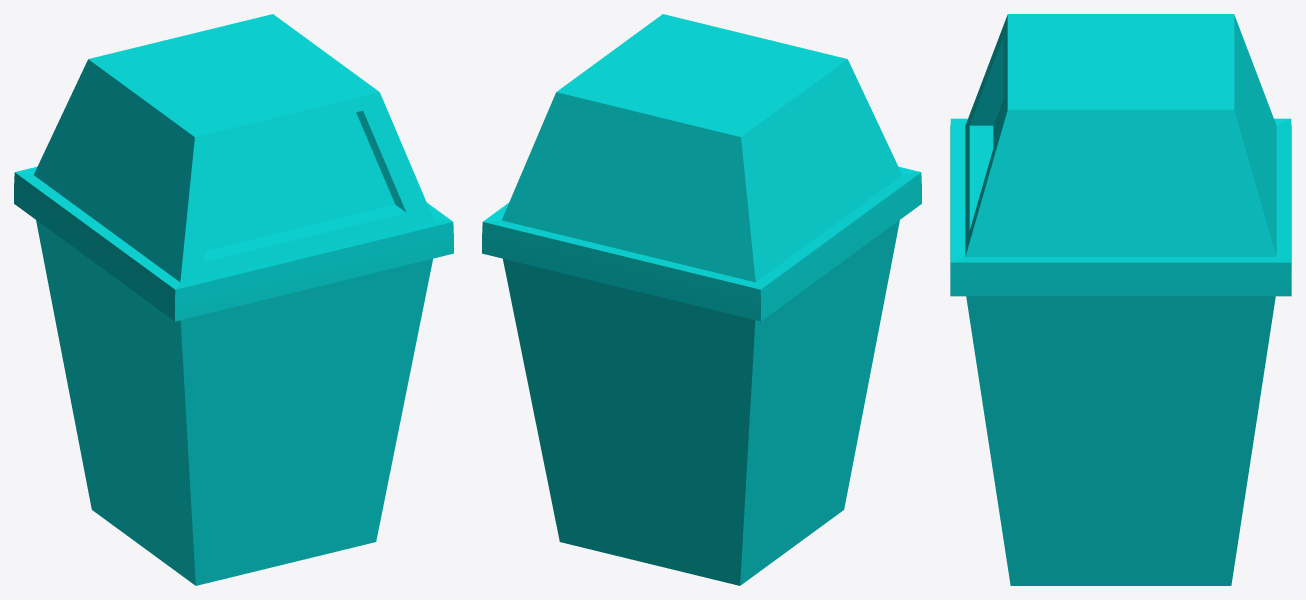
Rendered from trash_bin.fbx.
The picture shows the model from 3 angles, left to right: view 1: azimuth 30°, elevation 25°; view 2: azimuth 150°, elevation 25°; view 3: azimuth 270°, elevation 25°; orthographic projection. The views are drawn at different scales.
Parts seen in each view (by area): view 1: bin; view 2: bin; view 3: bin.
Part boxes in pixels (left/top/right/bottom): bin: left=14, top=14, right=453, bottom=585; bin: left=482, top=14, right=921, bottom=585; bin: left=950, top=14, right=1291, bottom=585.
Bounding box in the file's own units: 1.55 × 2.39 × 1.55.
